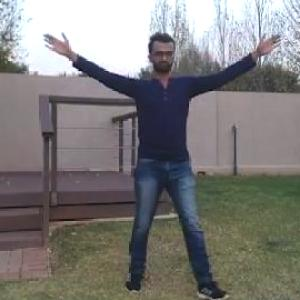takeoff: (29, 35, 253, 289)
